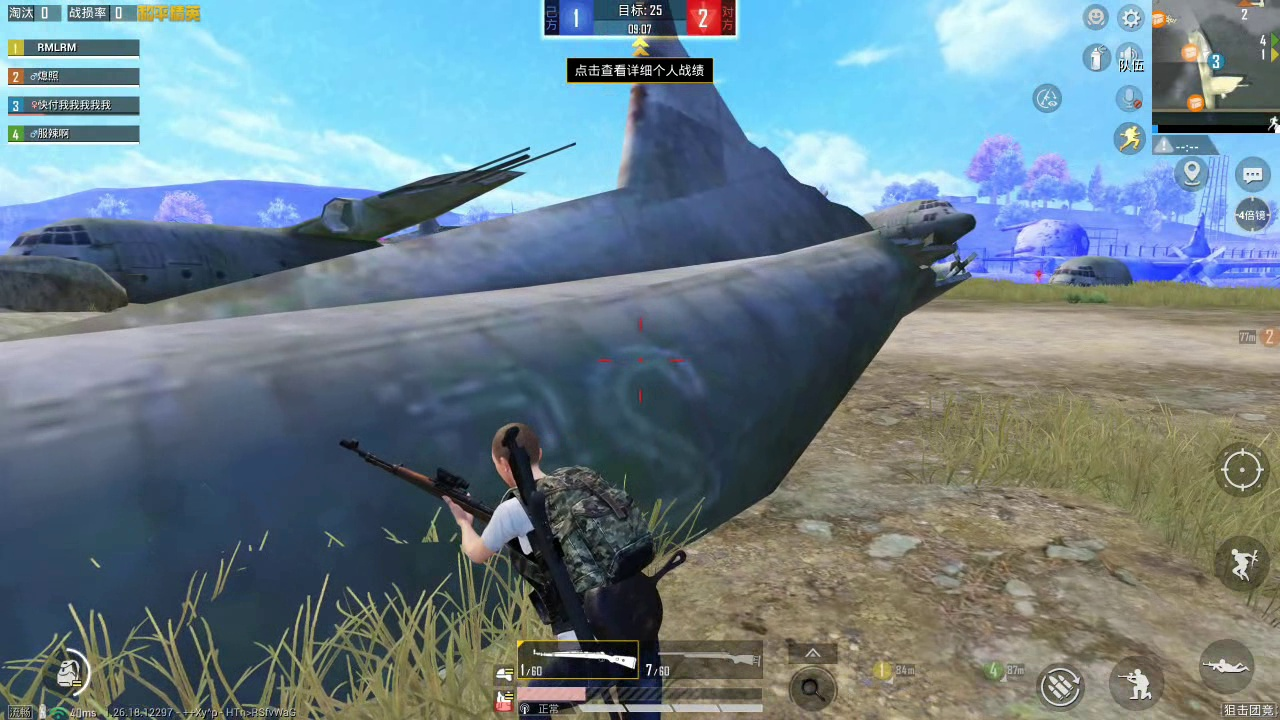enemy: (1035, 270, 1042, 283)
